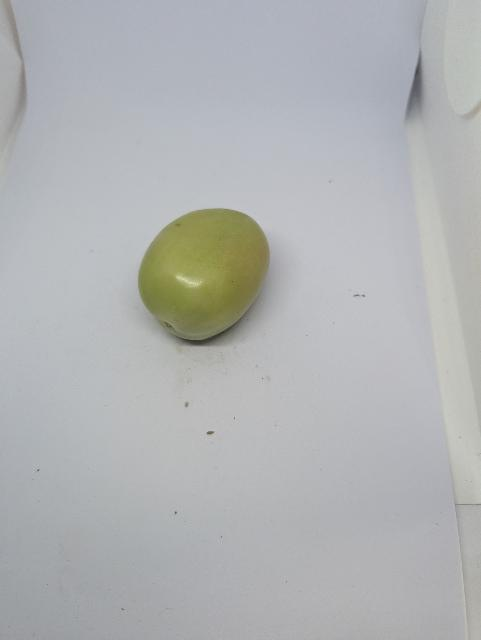green: (136, 206, 273, 344)
